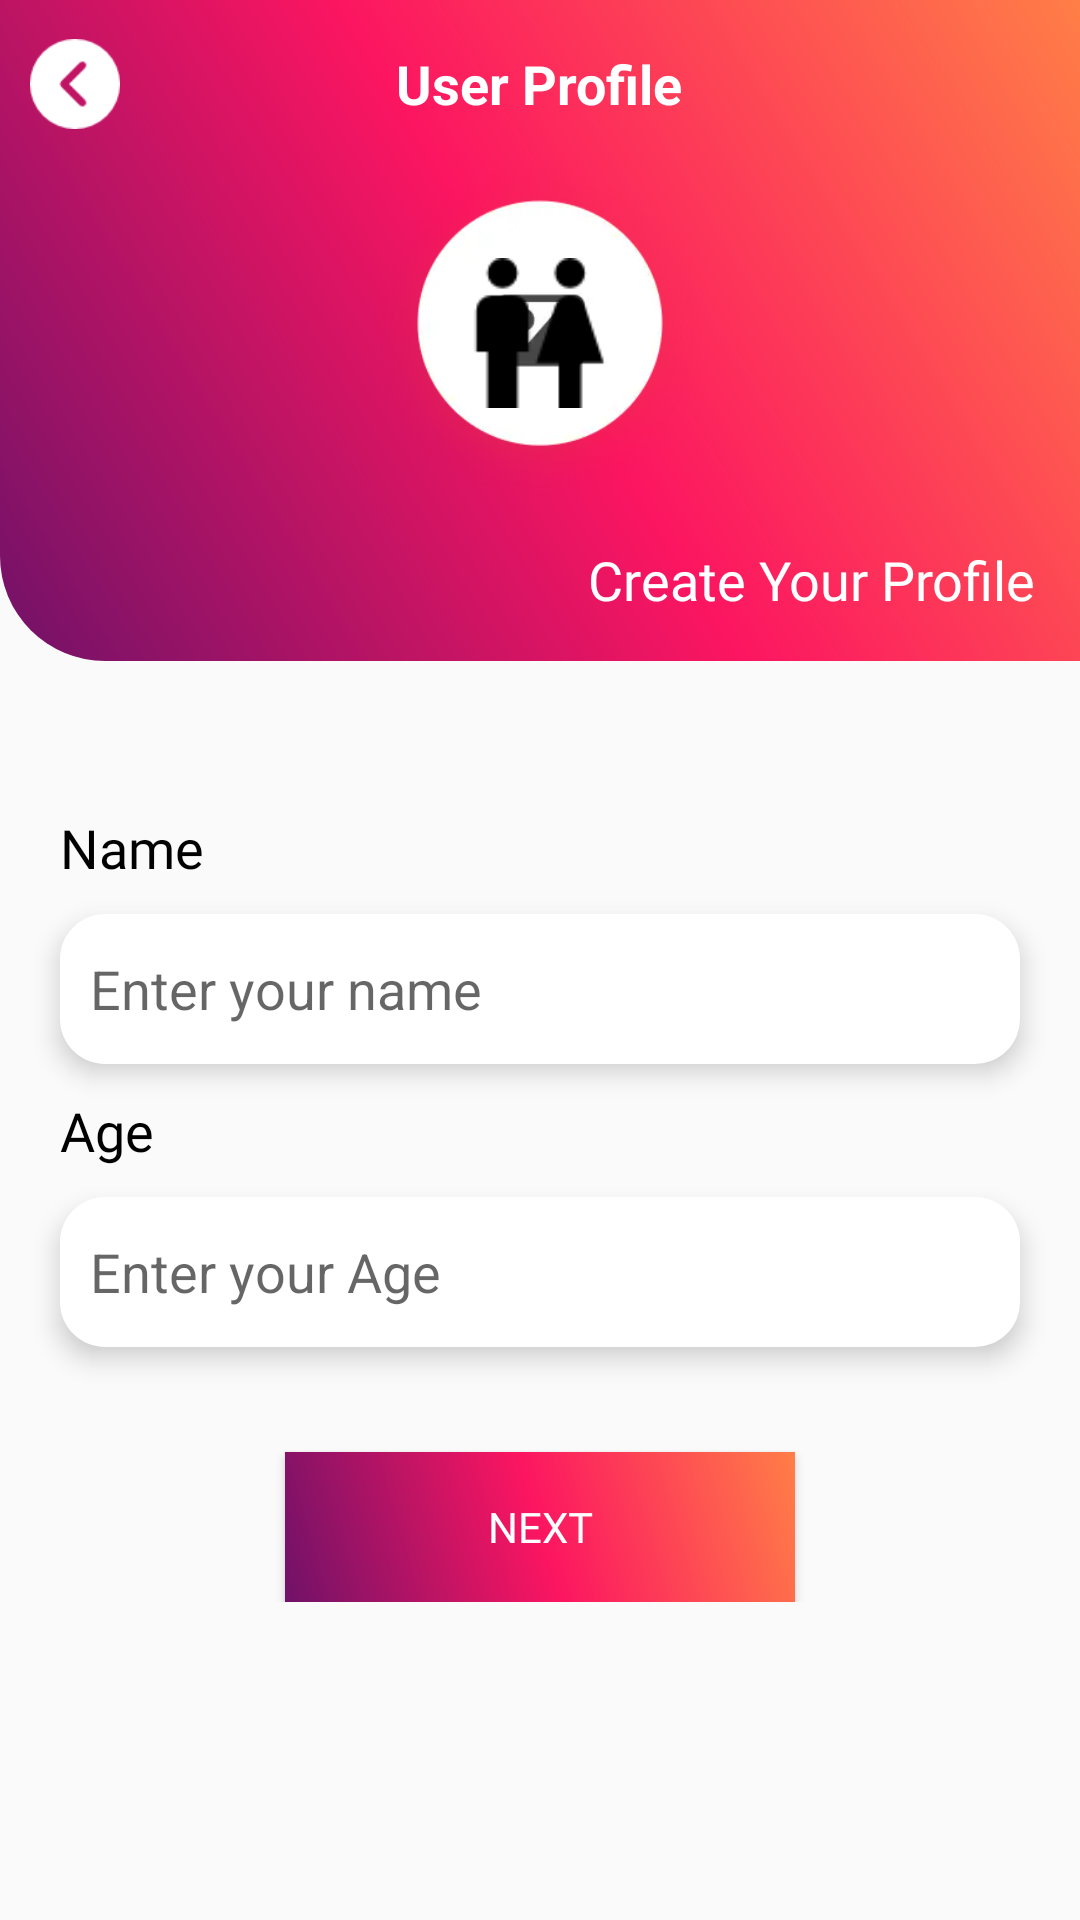

Icon click points for this 1080×1920 phone screenshot, format [x,y]:
back: [75,84]
malefemale: [519,349]
